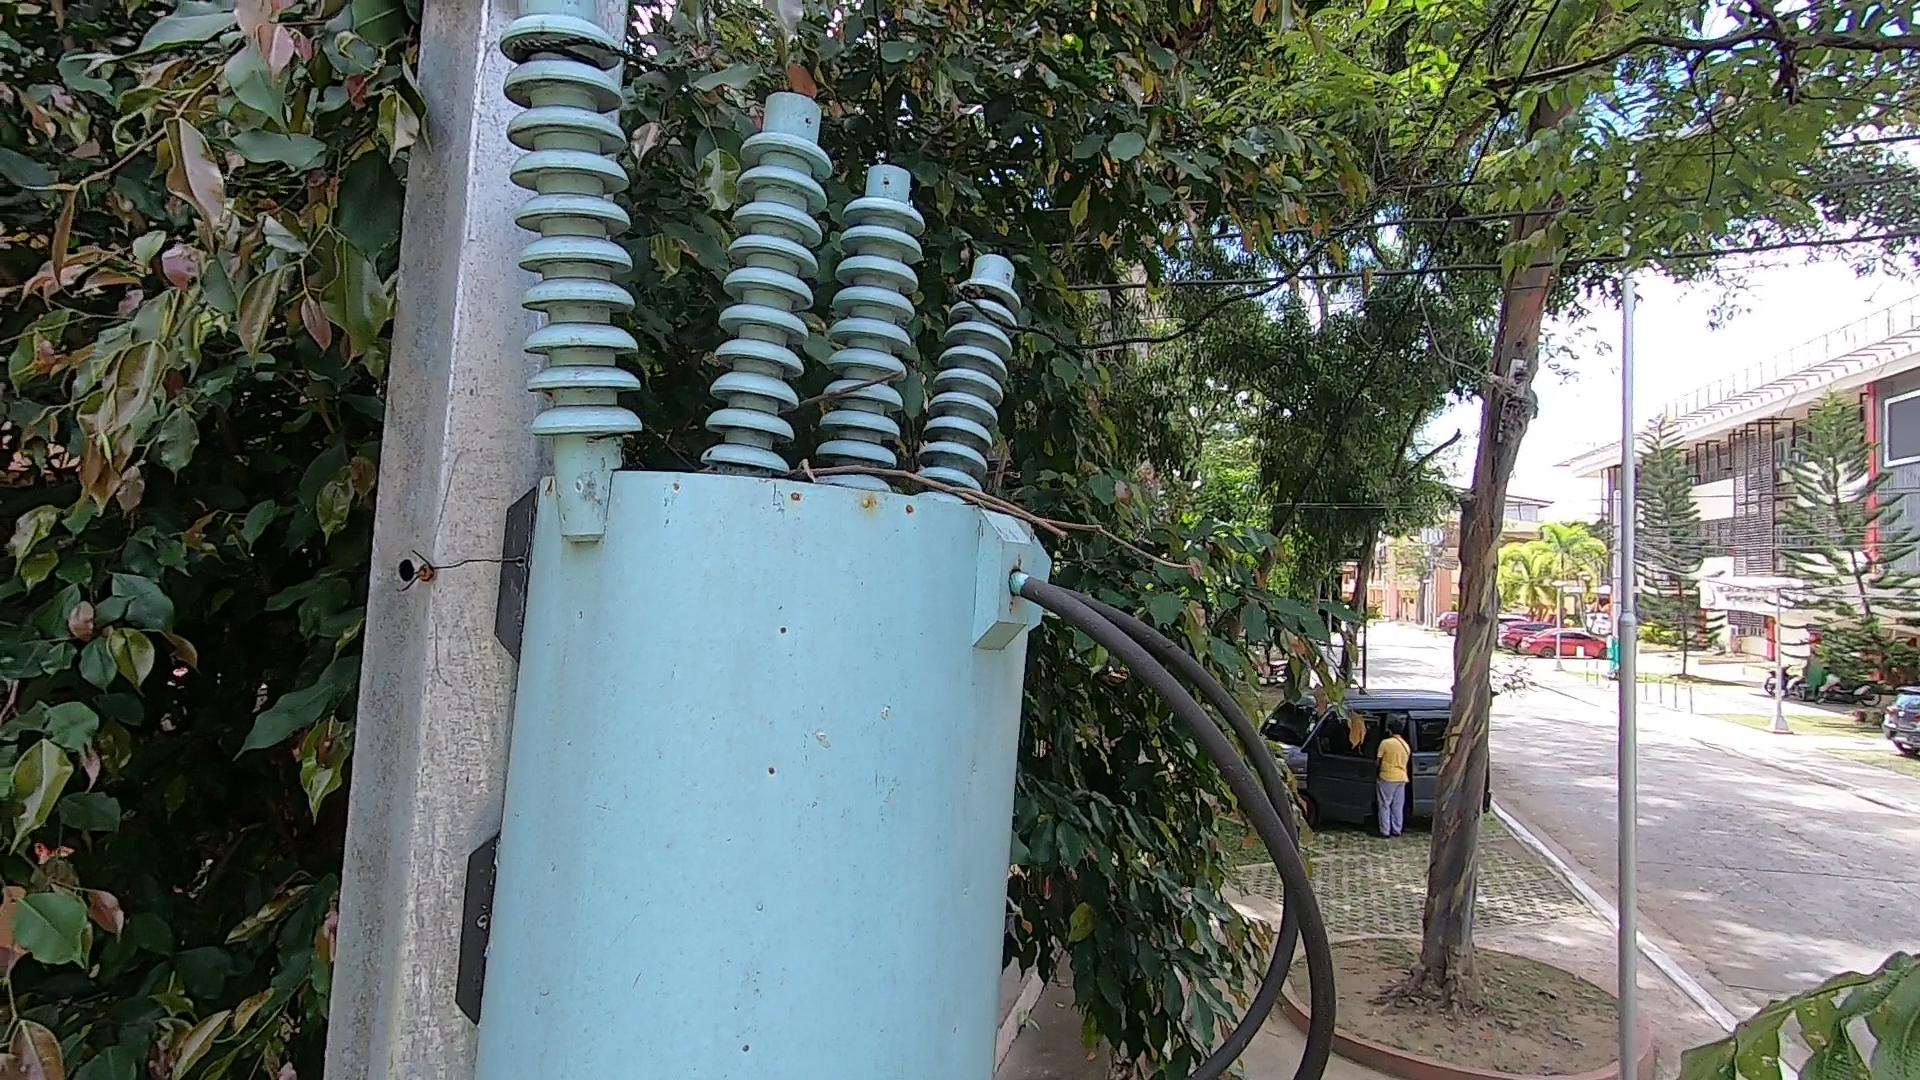tree branch: (744, 367, 1204, 596)
